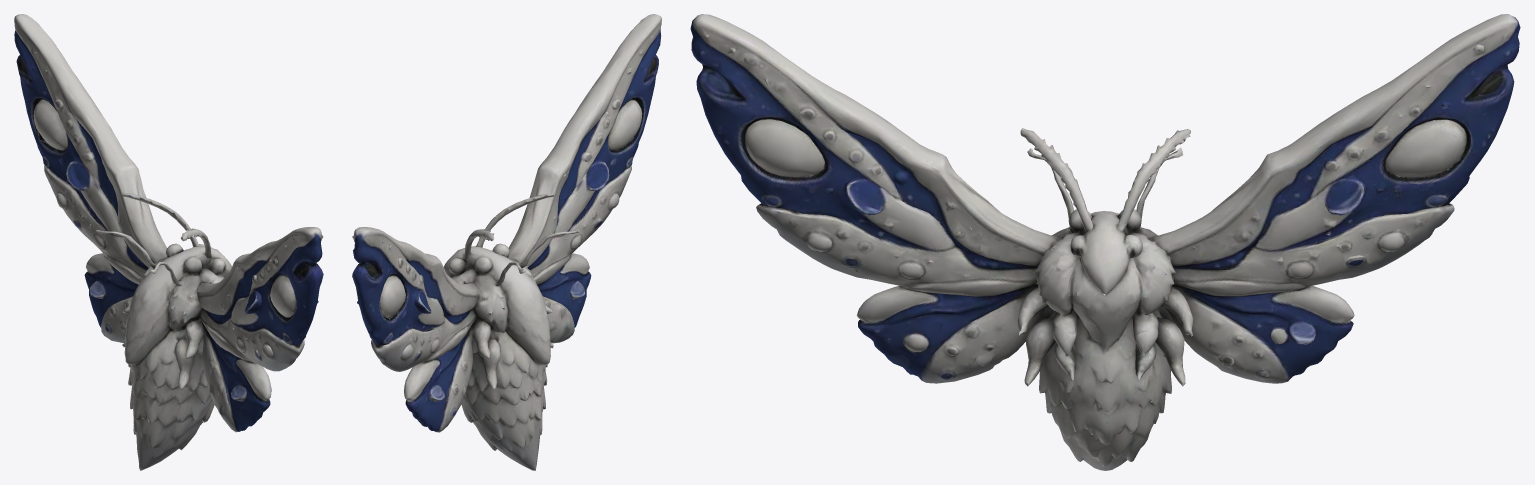
File: spaceMoth.glb
3 renders of one model, left to right at view 1: azimuth 30°, elevation 25°; view 2: azimuth 150°, elevation 25°; view 3: azimuth 270°, elevation 25°, orthographic. The views are drawn at different scales.
Parts seen in each view (by area): view 1: geometry_0; view 2: geometry_0; view 3: geometry_0.
Boxes of the visible parts, box(x1,y1,x2,y2) form: geometry_0: box(14, 14, 323, 470); geometry_0: box(352, 14, 661, 470); geometry_0: box(690, 14, 1520, 470).
Size of the model in its own units: 0.2079 by 0.6251 by 0.9993.
1 material, 1 textured.
